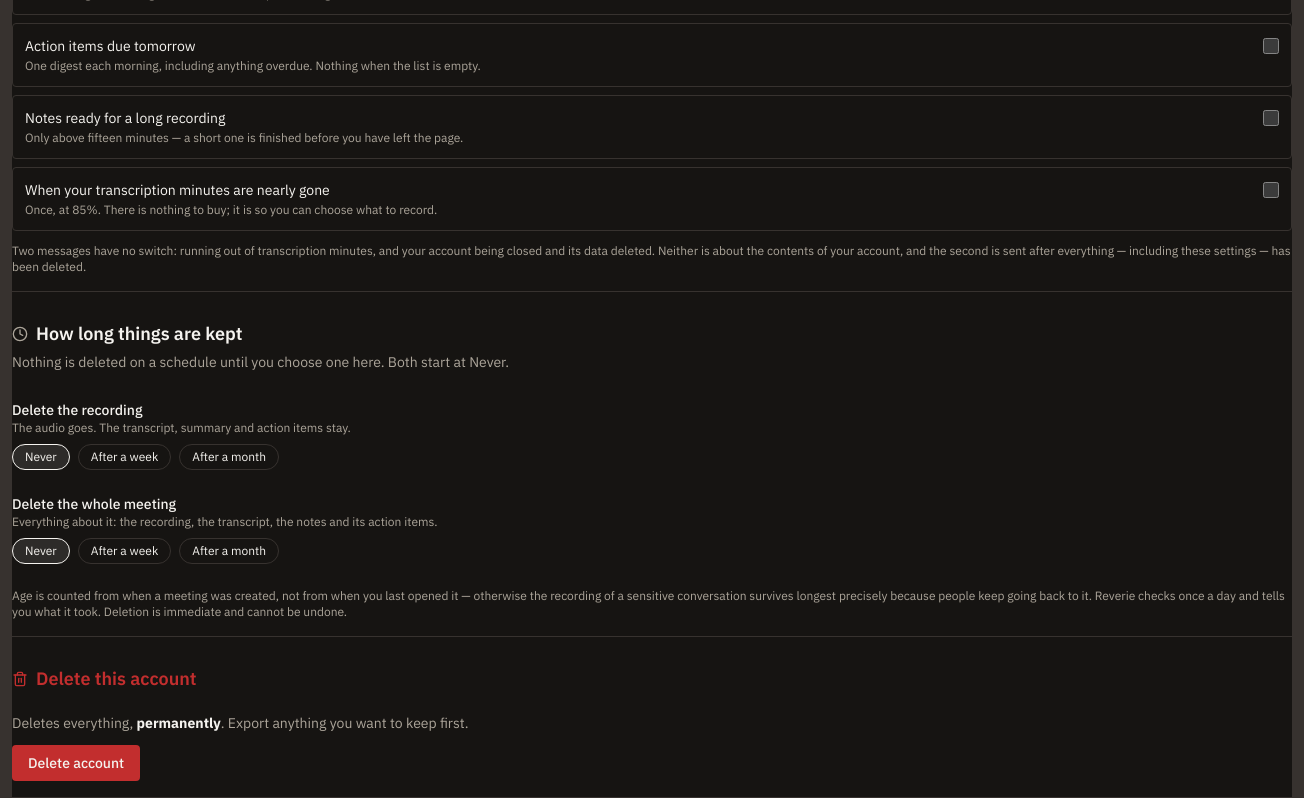
it: closing the account › cannot be reached by one click
(page scrolled)
Click the button "Delete account": click(76, 763) top-left (12, 745), bottom-right (140, 781)
(page scrolled)
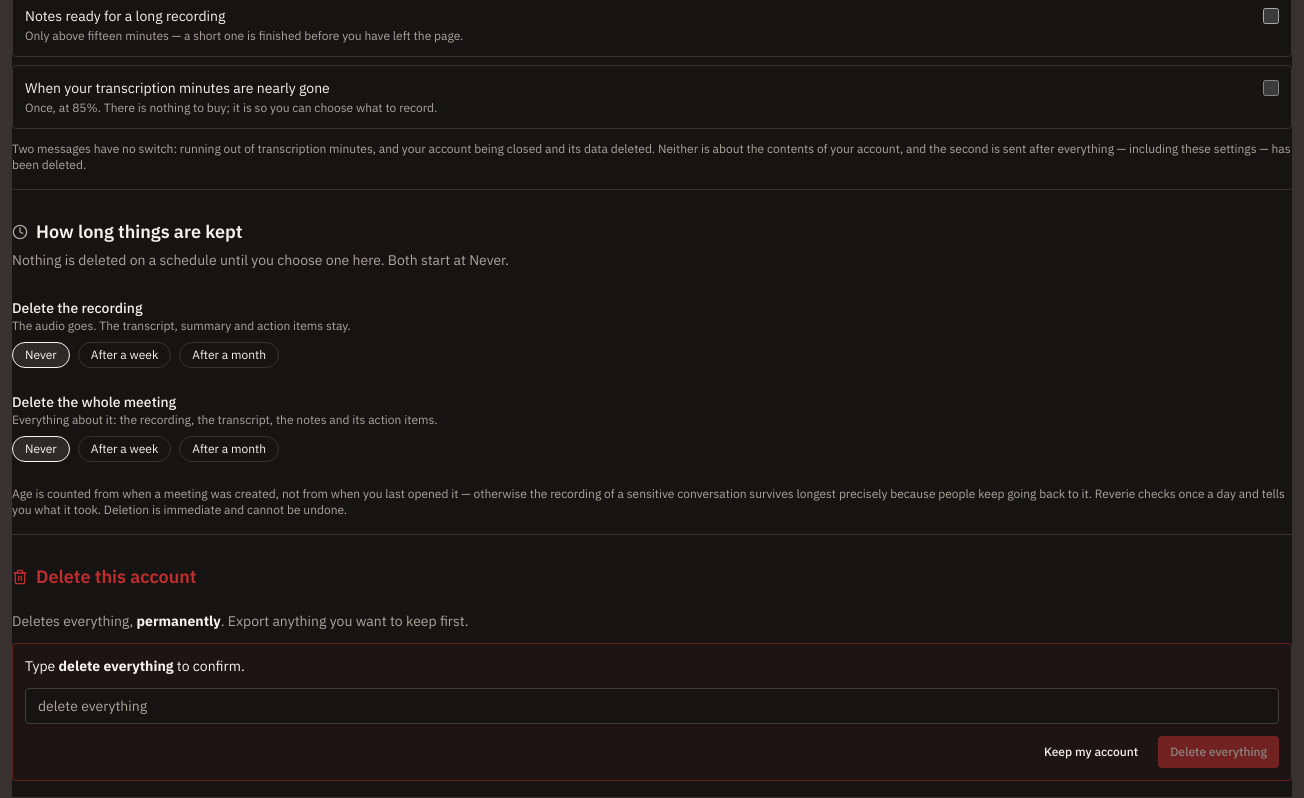
Expected: the button "Delete everything" is disabled, top-left (1158, 736), bottom-right (1279, 768)
